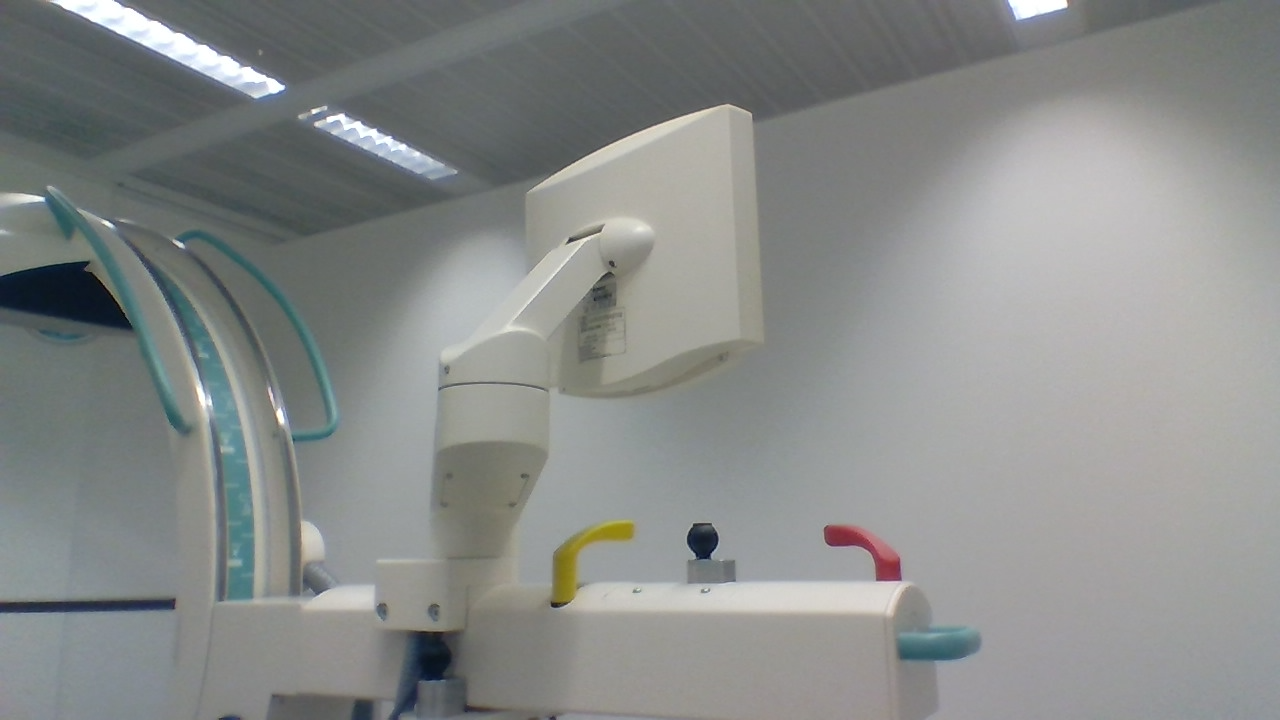carmSCREEN: (523, 101, 766, 400)
